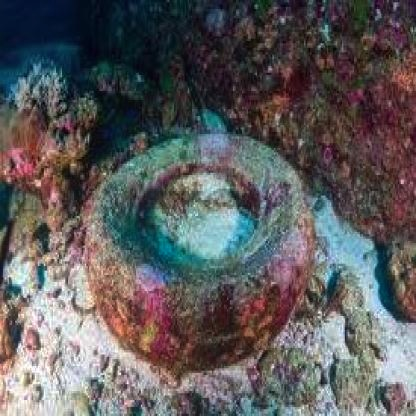tire: (82, 128, 322, 378)
